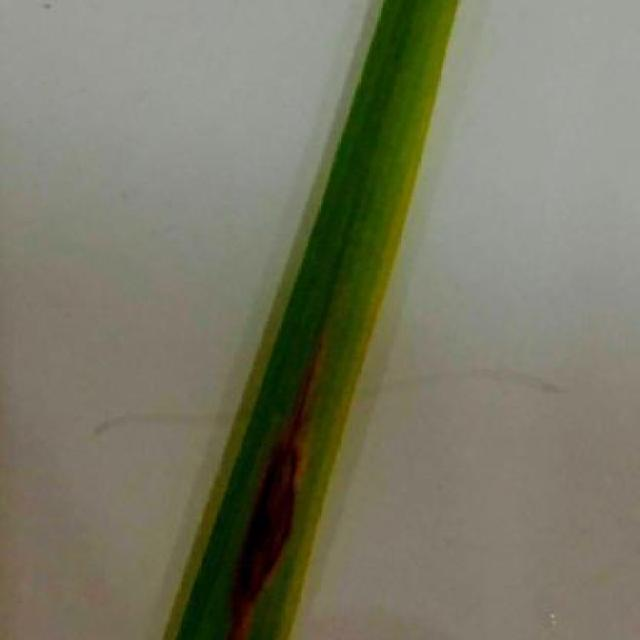Bacterial_Leaf_Blight: (226, 396, 302, 630)
